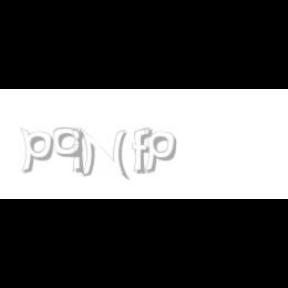N: (78, 128, 128, 180)
f: (132, 128, 156, 174)
i: (72, 128, 88, 176)
o: (54, 128, 82, 158)
p: (20, 128, 57, 174), (144, 128, 180, 174)
